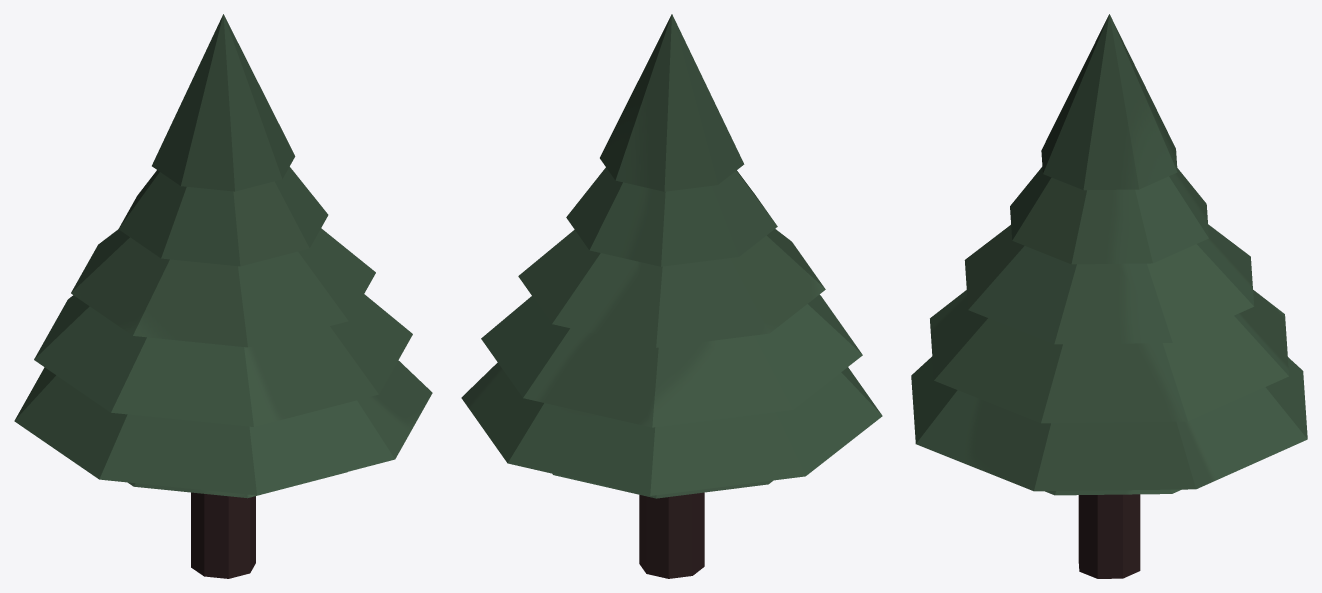
The model's file is pino.fbx.
The picture shows the model from 3 angles, left to right: view 1: azimuth 30°, elevation 25°; view 2: azimuth 150°, elevation 25°; view 3: azimuth 270°, elevation 25°; orthographic projection.
Visible parts, largest first — view 1: pine; view 2: pine; view 3: pine.
Boxes of the visible parts, bbox=[...] form: pine: bbox=[14, 14, 432, 578]; pine: bbox=[461, 14, 882, 578]; pine: bbox=[911, 14, 1307, 578].
Size of the model in its own units: 720 by 1106 by 720.
Materials: 1 (1 with a texture image).
